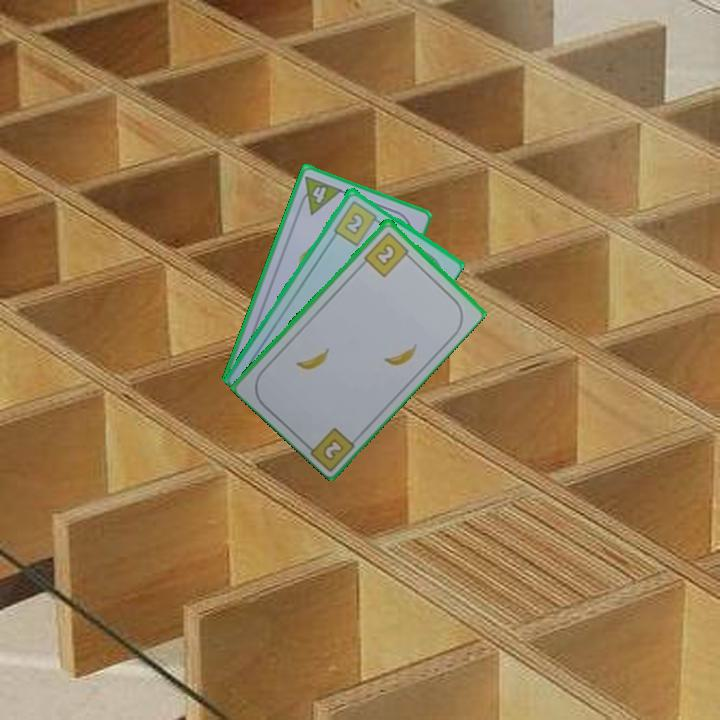2b: (360, 228, 415, 279), (330, 197, 384, 248), (321, 437, 345, 461)
4p: (294, 173, 345, 217)
